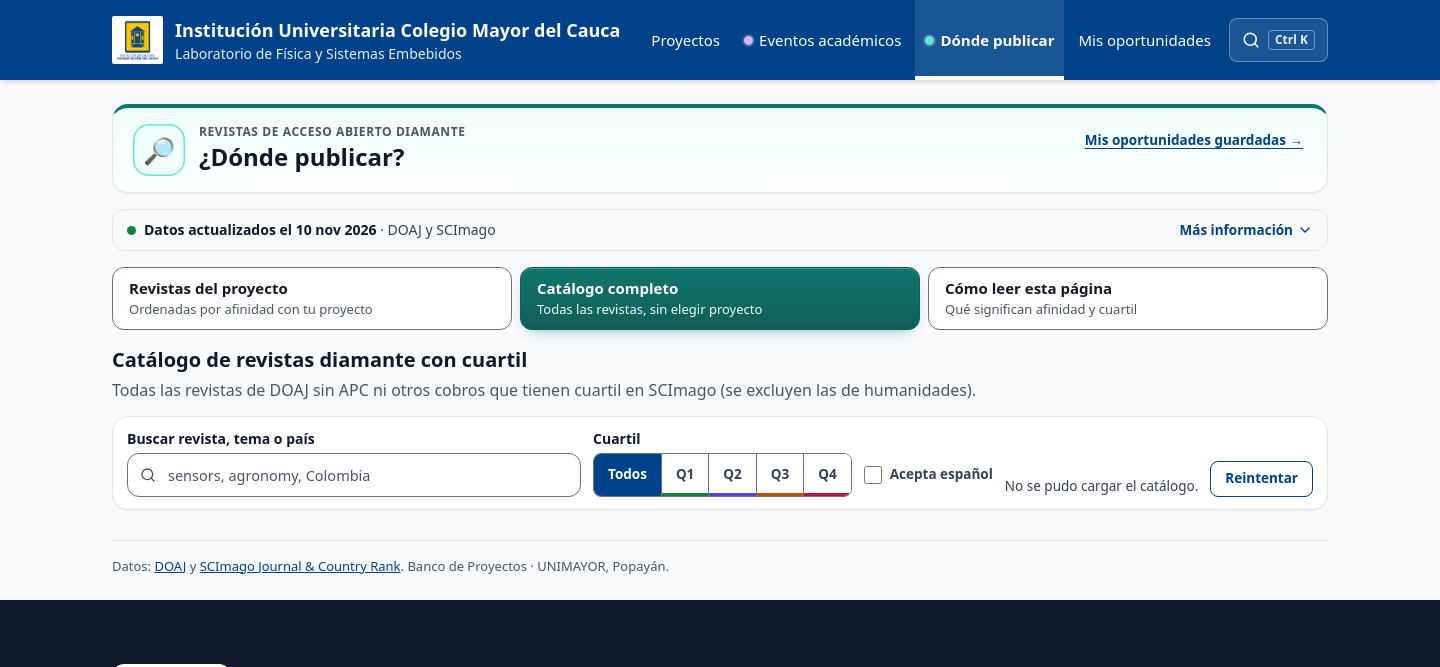
Test: /donde-publicar catalog tab › says the catalog could not be loaded and «Reintentar» recovers
Expected: the text "No se pudo cargar el catálogo." is shown, [1005,476,1198,497]
Click the button "Reintentar".
click(1262, 478)  # box [1210,460,1313,496]
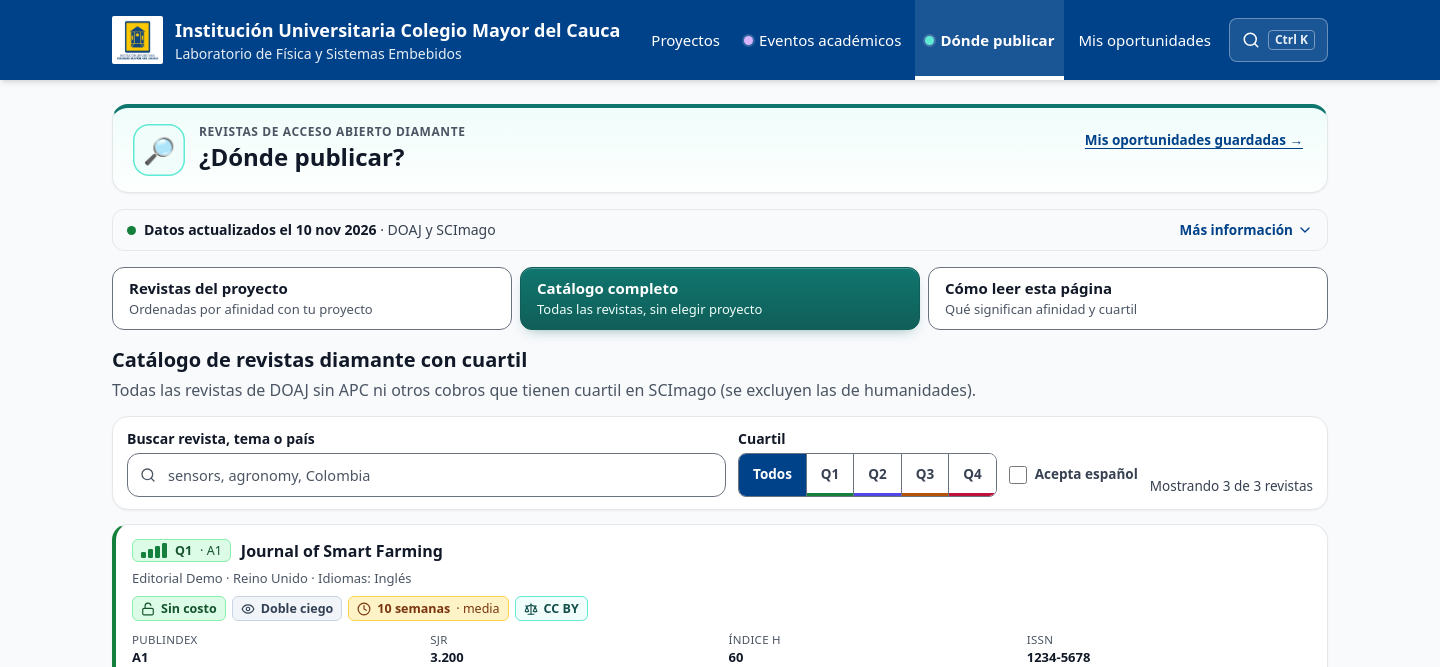
Result: the text "Mostrando 3 de 3 revistas" is shown at [1150,476,1313,497]
